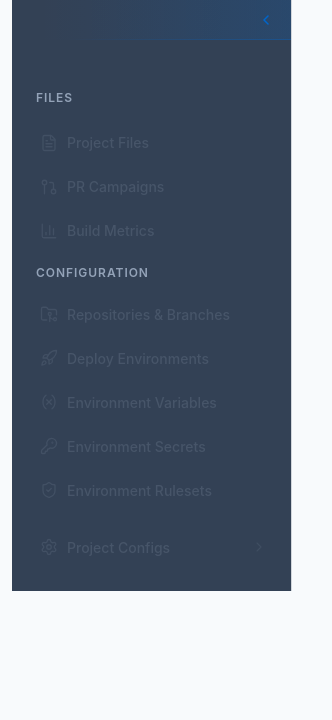
Test case: Sidebar › standard project shows Danger Zone nav item
Click the button "Project Configs".
click(152, 547)  # box [12,527,291,567]
(page scrolled)
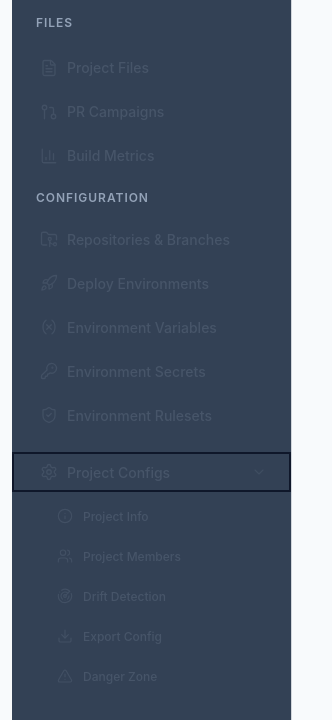
Result: the button "Danger Zone" is shown at [12,656,291,696]
